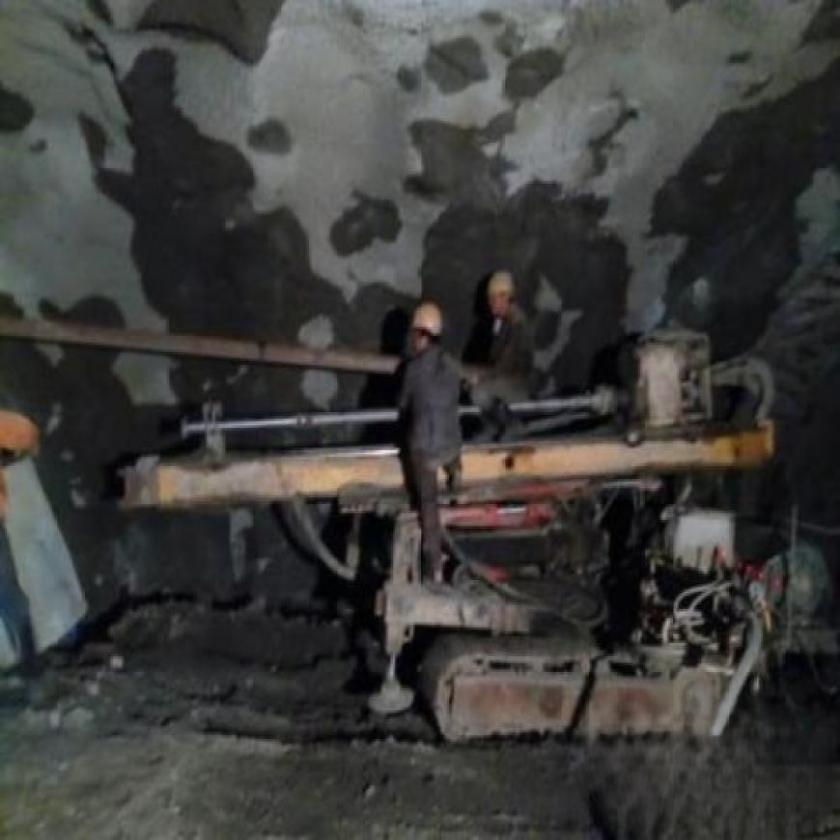Con_casco: (386, 296, 448, 363)
